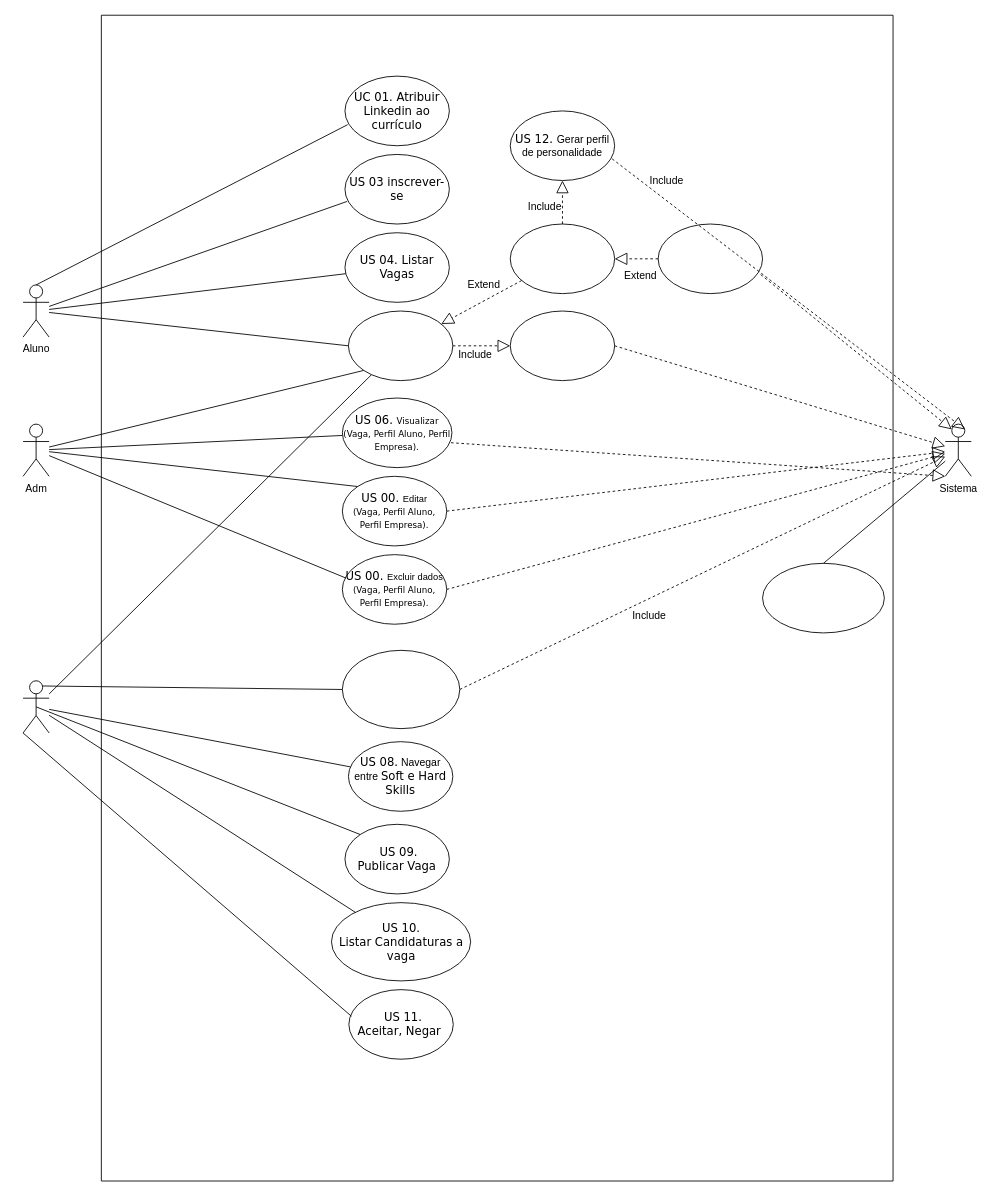
Some shapes in this 993 by 1196 pixel diagram are drawn without their labels. The centre of each missing label's shape, as x and y in pixels:
Empresa: point 35,706
US 05. Efetuar Login: point 400,345
US 07. Gerar relatórios do estagiário (trimestral): point 400,689
US 13. Cadastrar Usuário: point 562,258
US 14. Verificar se o usuário está no banco de dados.: point 710,258
US 15. Verificar senha: point 562,345
US 16. Notificações (Vagas,Candidaturas Atuais, etc).: point 823,597
